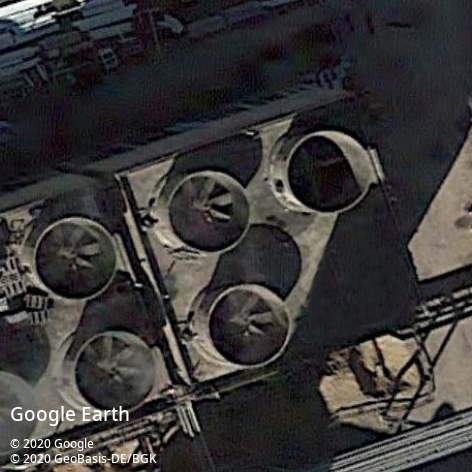Vent: (32, 216, 119, 303), (205, 283, 292, 368), (166, 170, 251, 256), (286, 130, 372, 215)
